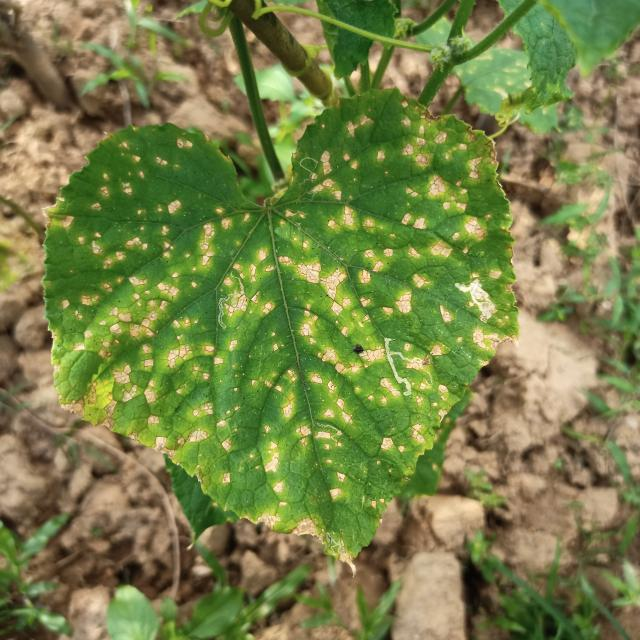disease_cucumber: (57, 113, 504, 516)
